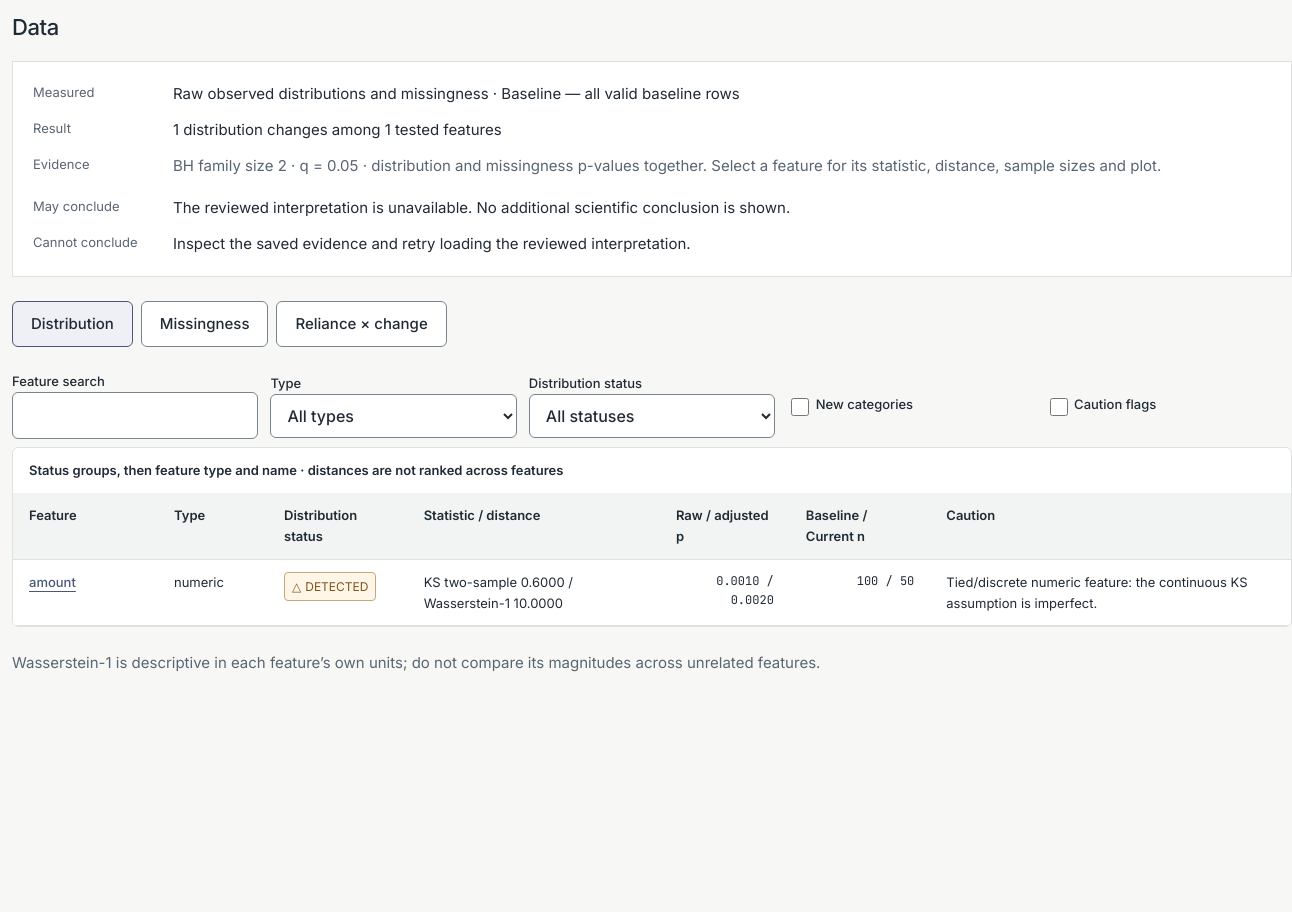
Test: M3 Mode A › keeps distribution, missingness and baseline reliance distinct with evidence and full feature detail
Expected: the text "BH family size 2" is shown, [173,154,1271,178]
Click the button "Missingness" at {"x": 205, "y": 324}, box [141,301,268,347]
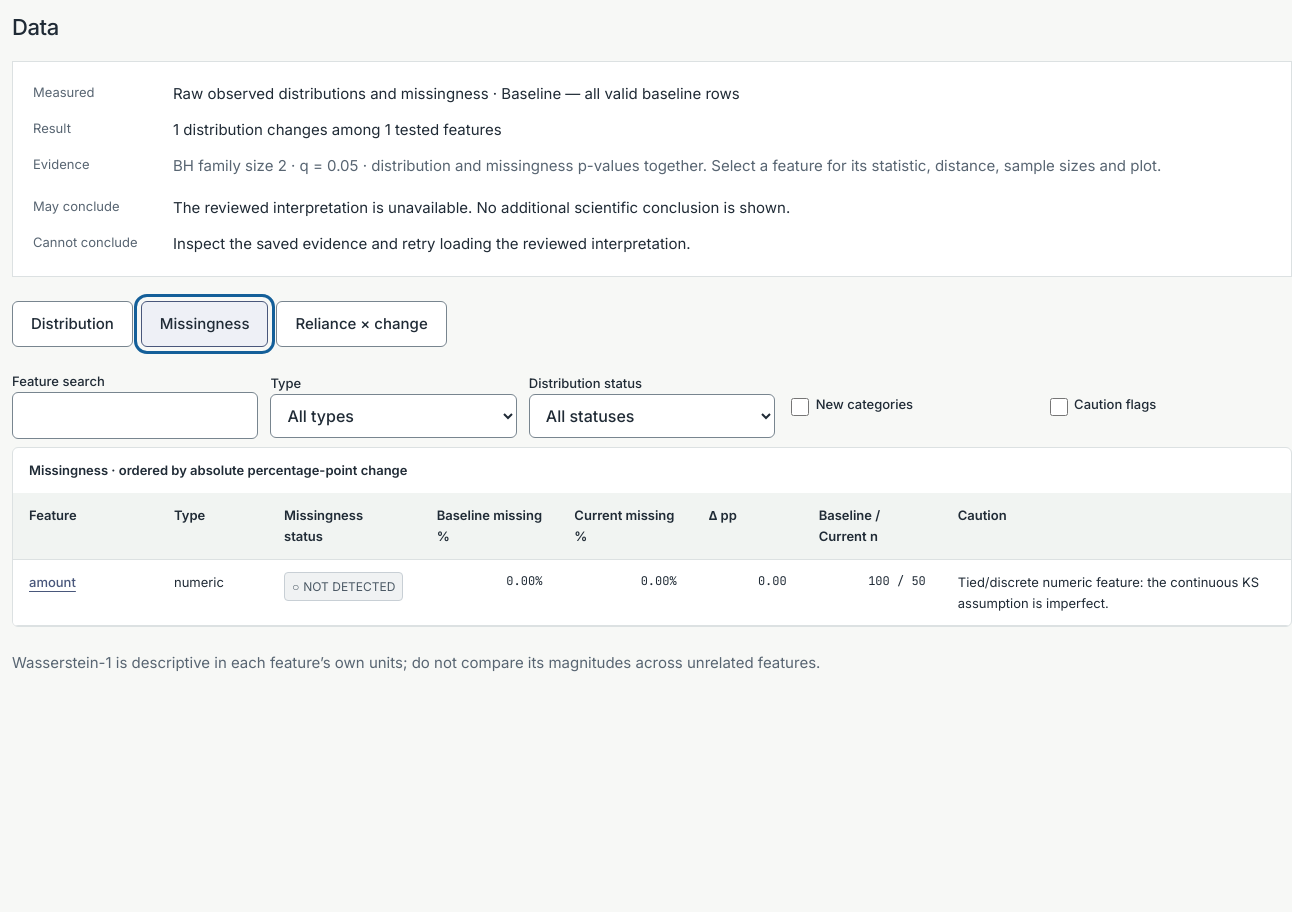
Expected: the text "Missingness · ordered by absolute percentage-point change" is shown, [29,462,407,478]
Click the button "Reliance × change" at {"x": 362, "y": 324}, box [276,301,447,347]
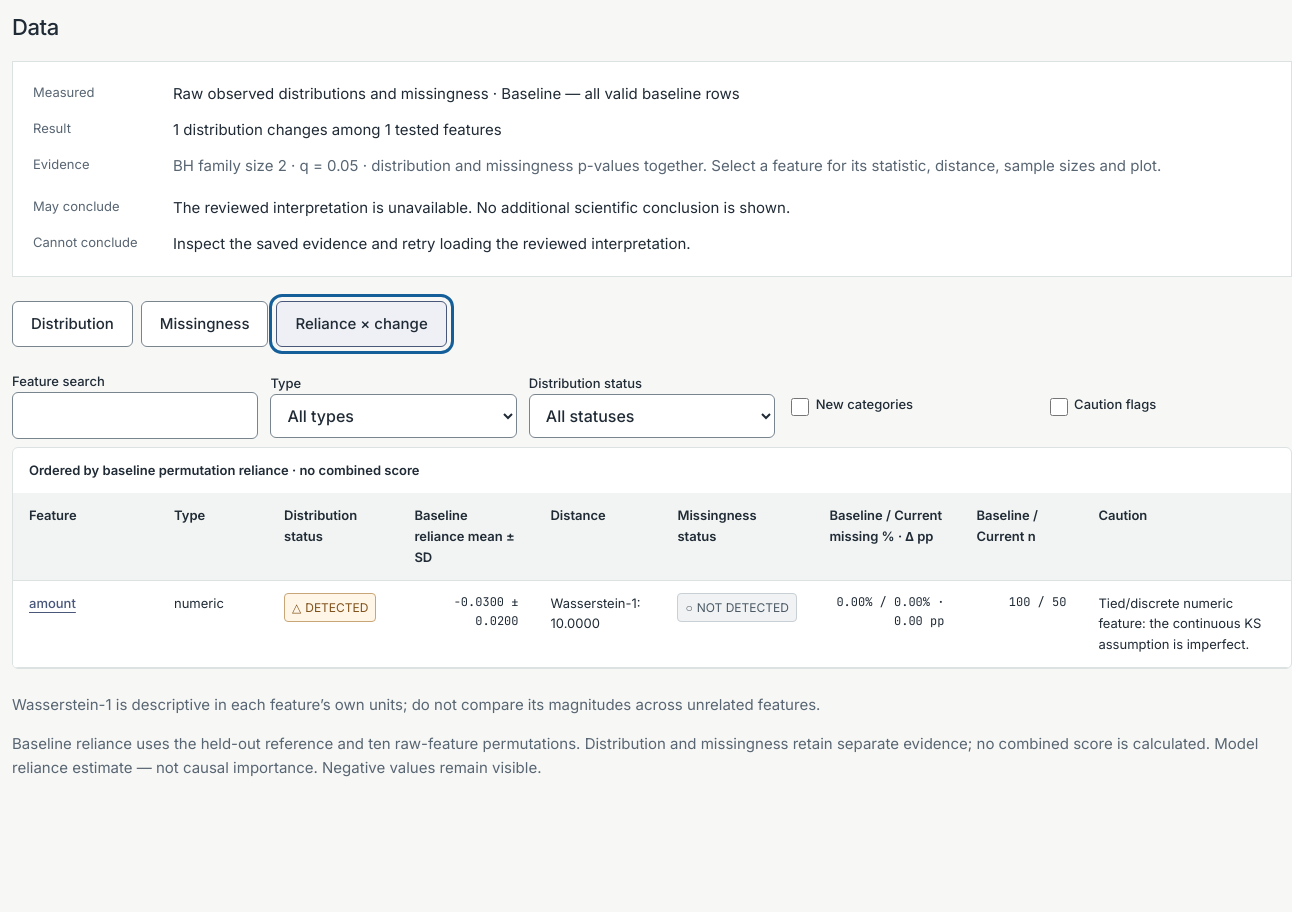
Expected: the text "-0.0300 ± 0.0200" is shown, [398,580,534,668]
